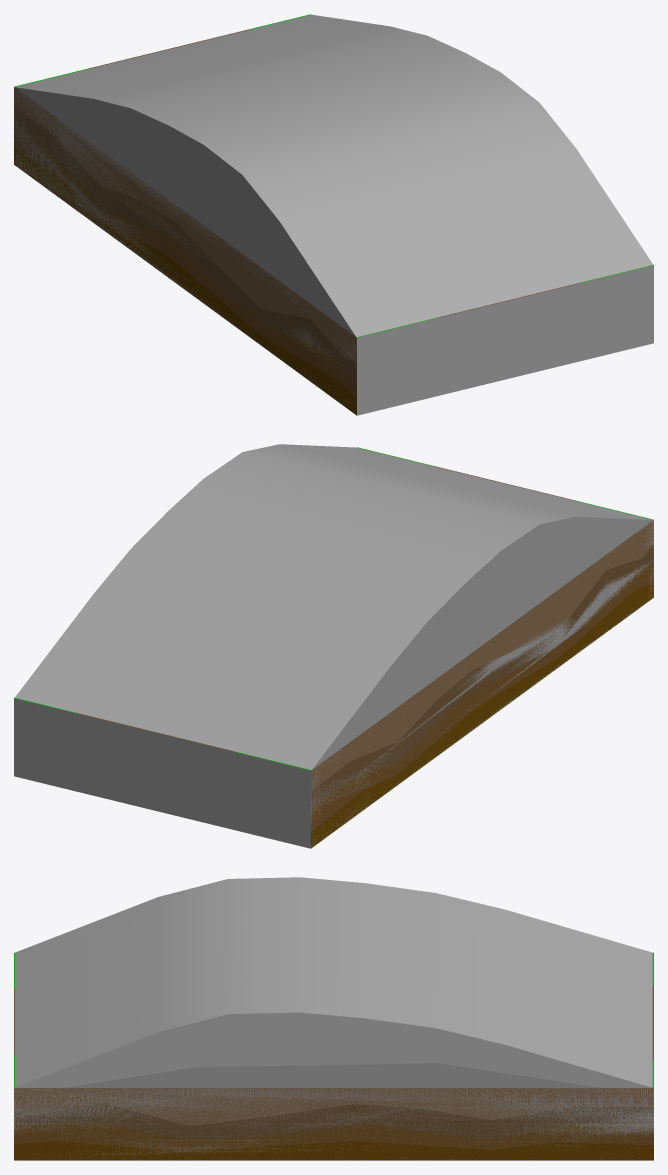
File: hillpath.fbx
3 views of the same model, one above another, from view 1: azimuth 30°, elevation 25°; view 2: azimuth 150°, elevation 25°; view 3: azimuth 270°, elevation 25° (orthographic). The views are drawn at different scales.
Visible parts, largest first — view 1: pCube2, pCube1; view 2: pCube2, pCube1; view 3: pCube2, pCube1.
Part boxes in pixels (box(x1,y1,x2,y2)): pCube2: box(14, 14, 653, 415); pCube1: box(14, 14, 653, 415); pCube2: box(14, 444, 653, 848); pCube1: box(14, 447, 653, 848); pCube2: box(14, 877, 653, 1160); pCube1: box(14, 952, 653, 1160).
Bounding box in the file's own units: 10 × 5.11 × 20.
